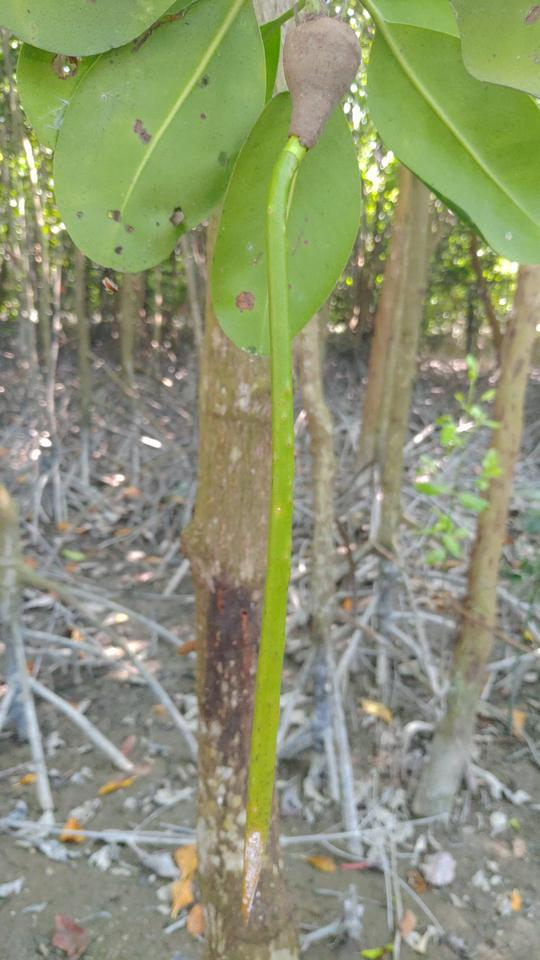setengah matang: (219, 7, 368, 927)
